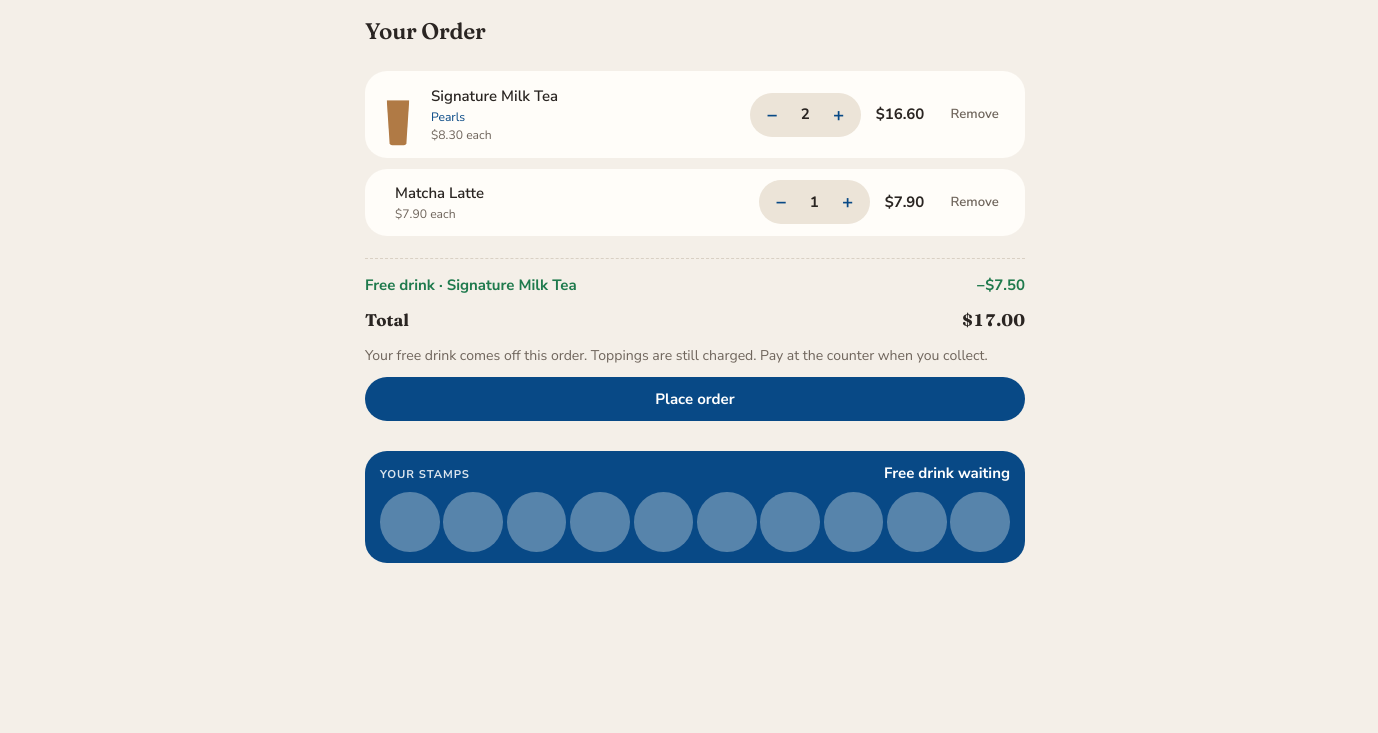
Test: OrderPanel and the pearl card › places at full price and says so when the free drink cannot be used
Click the button "Place order" at [695, 399], box [365,377,1025,421]
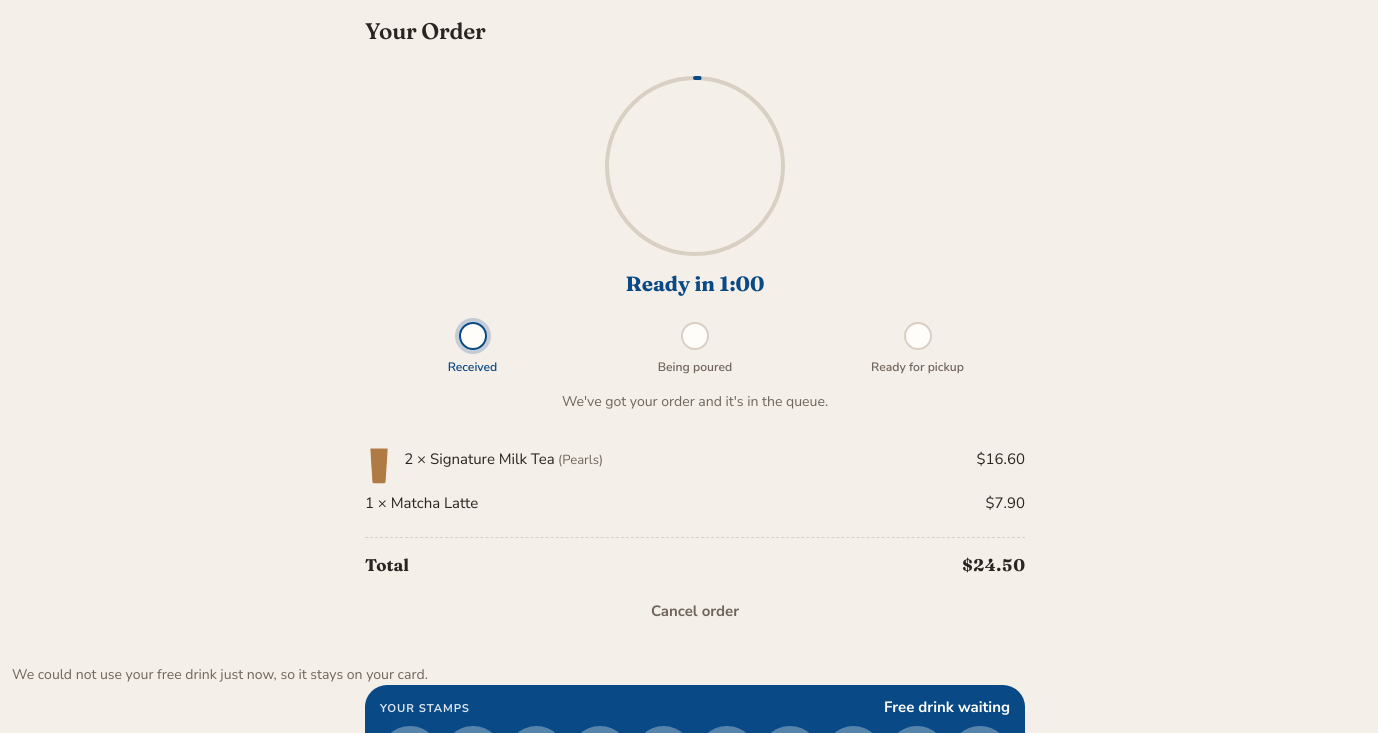
Expected: the text "We could not use your free drink just now, so it stays on your card." is shown, [12,664,428,684]
